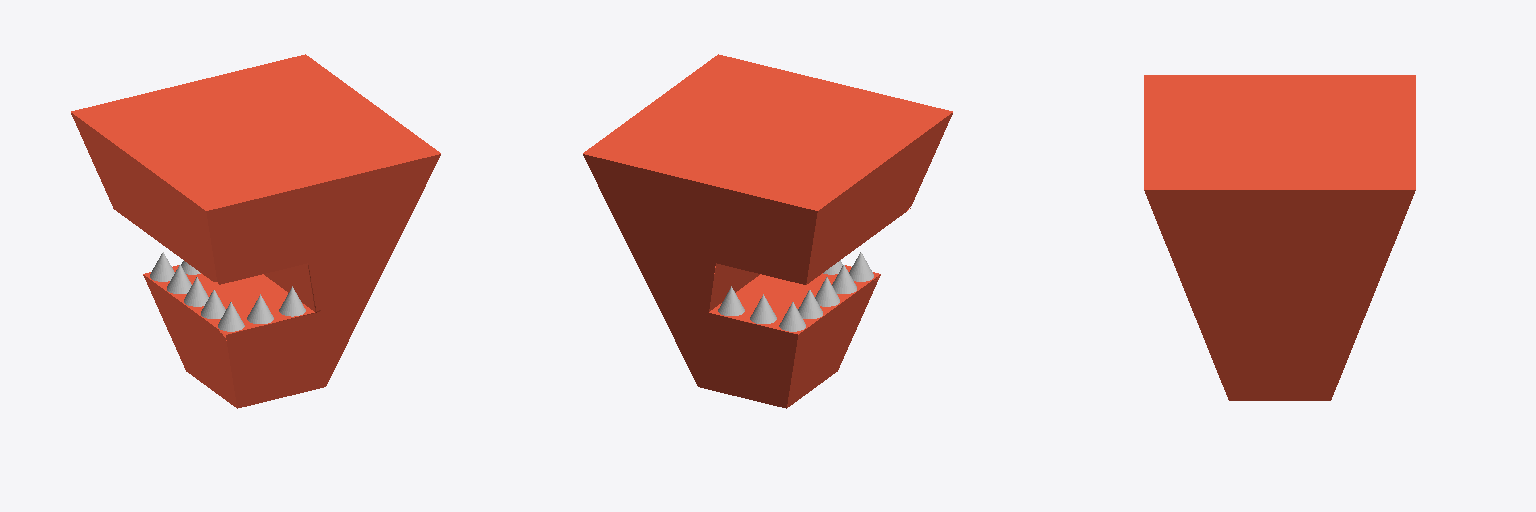
The picture shows the model from 3 angles: view 1: azimuth 30°, elevation 25°; view 2: azimuth 150°, elevation 25°; view 3: azimuth 270°, elevation 25°; orthographic projection.
Parts seen in each view (by area): view 1: 円錐.008; view 2: 円錐.008; view 3: 円錐.008.
Part boxes in pixels (left/top/right/bottom): 円錐.008: left=71, top=54, right=440, bottom=408; 円錐.008: left=583, top=54, right=952, bottom=408; 円錐.008: left=1144, top=75, right=1415, bottom=400.
Size of the model in its own units: 2 by 2 by 2.
Materials: 10 (1 with a texture image).